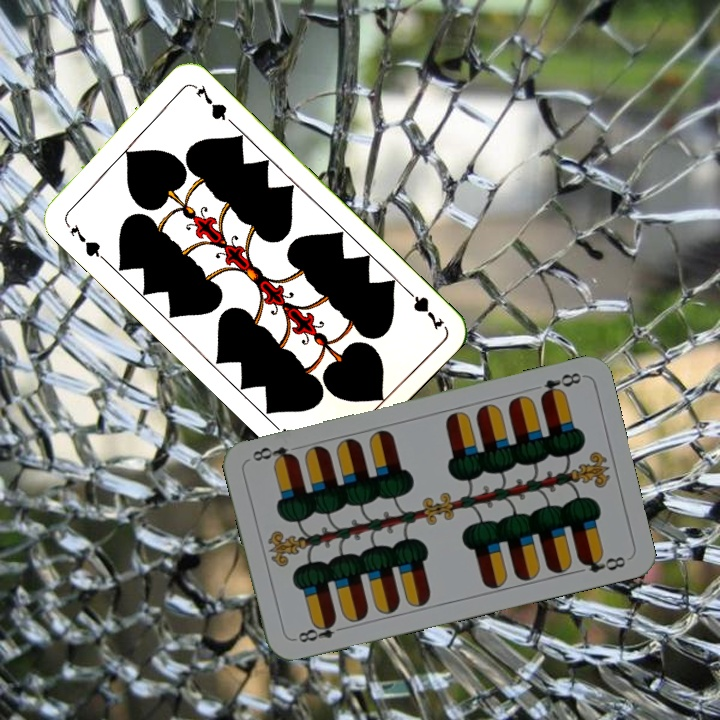E8: (290, 615, 349, 646), (536, 368, 586, 401)
G7: (400, 283, 447, 333), (66, 220, 107, 262)
